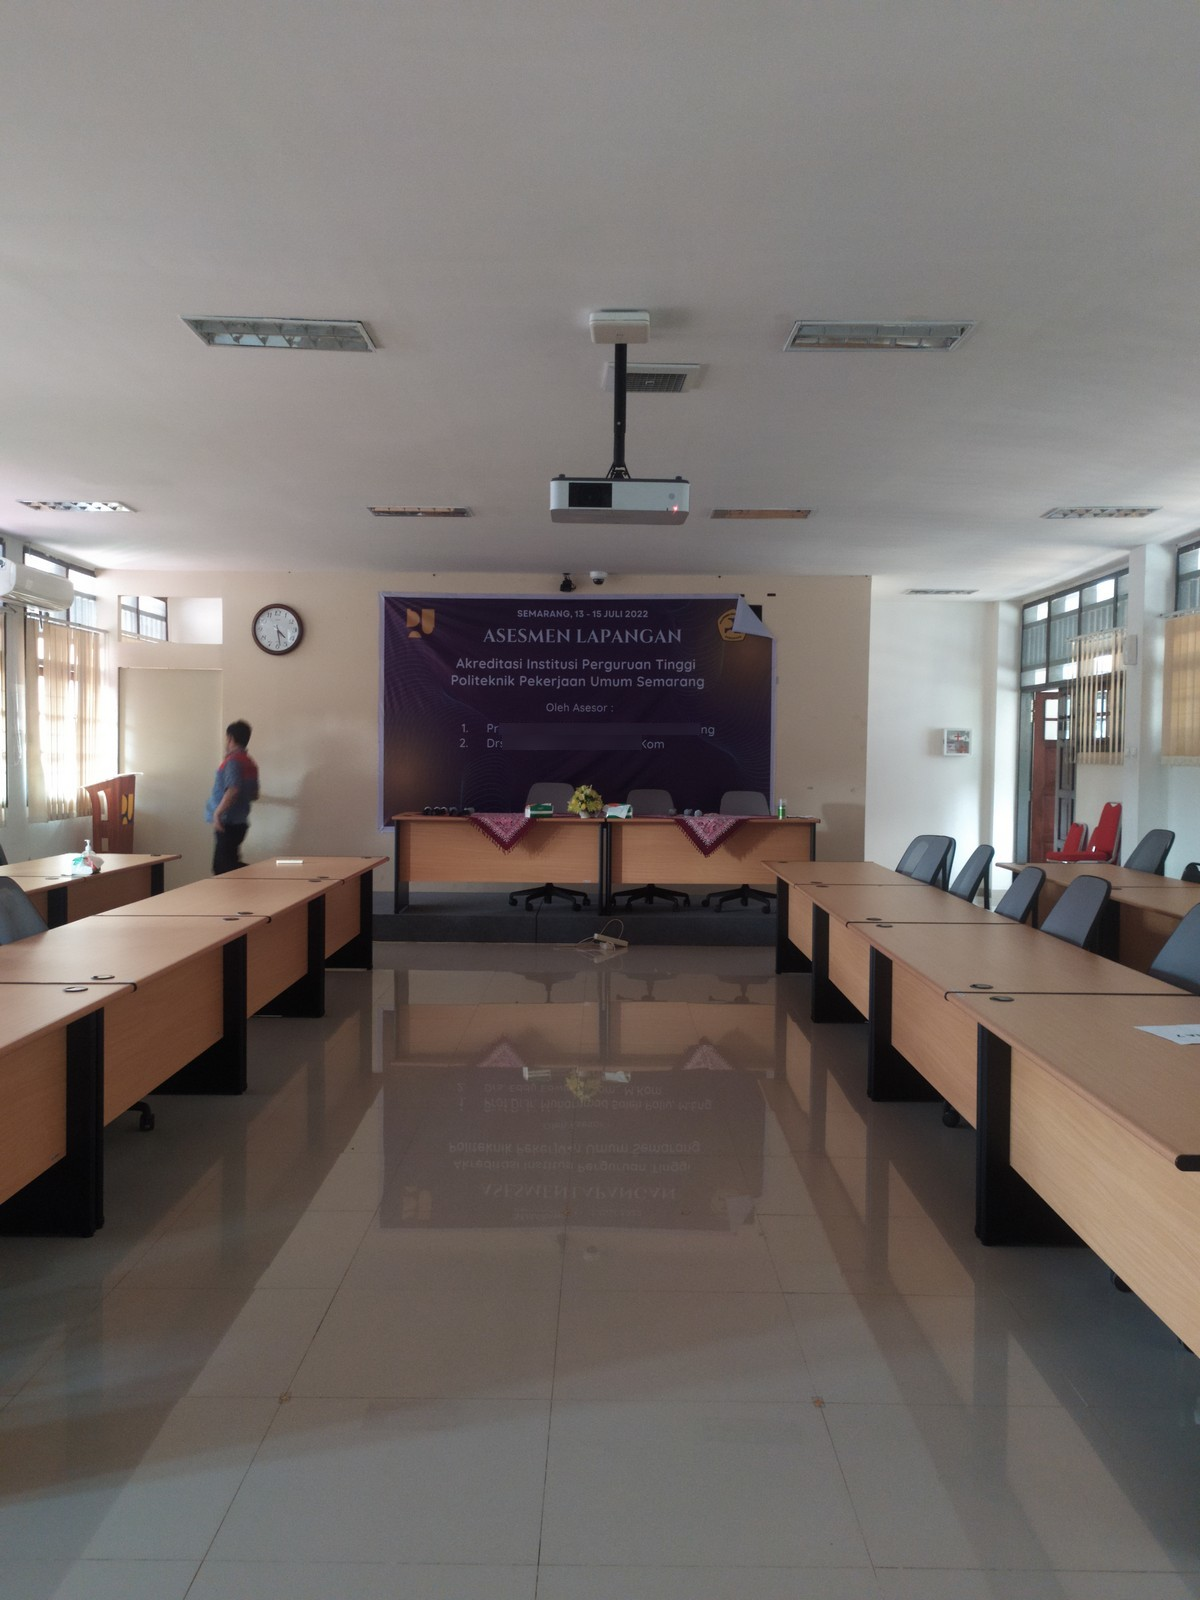concrete column: (1124, 539, 1182, 860), (977, 593, 1020, 898)
